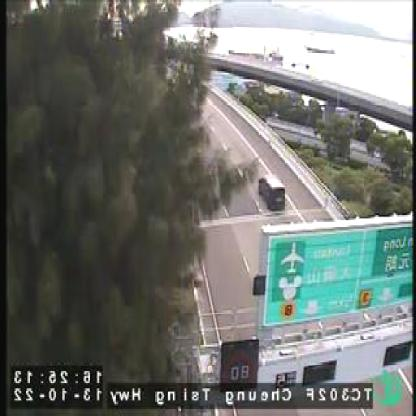Truck: (258, 174, 287, 212)
